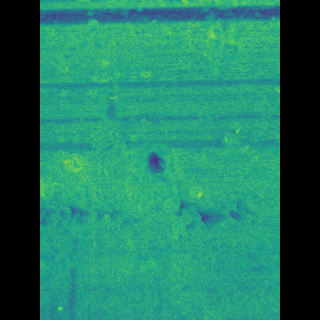Loch: (70, 178, 251, 319), (68, 148, 115, 319), (86, 6, 132, 151), (186, 0, 221, 79), (140, 135, 177, 202)
